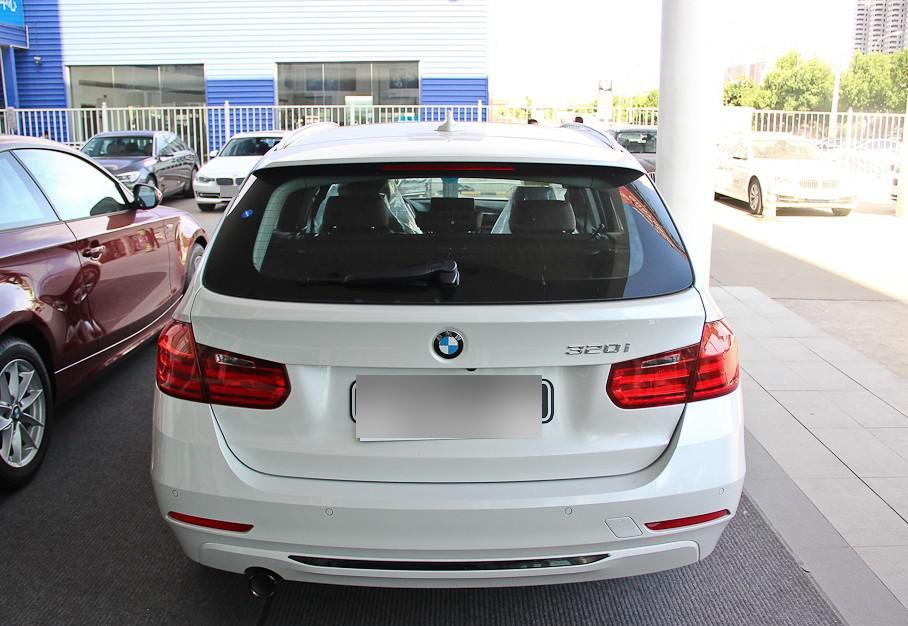Wagon: (151, 110, 743, 600)
